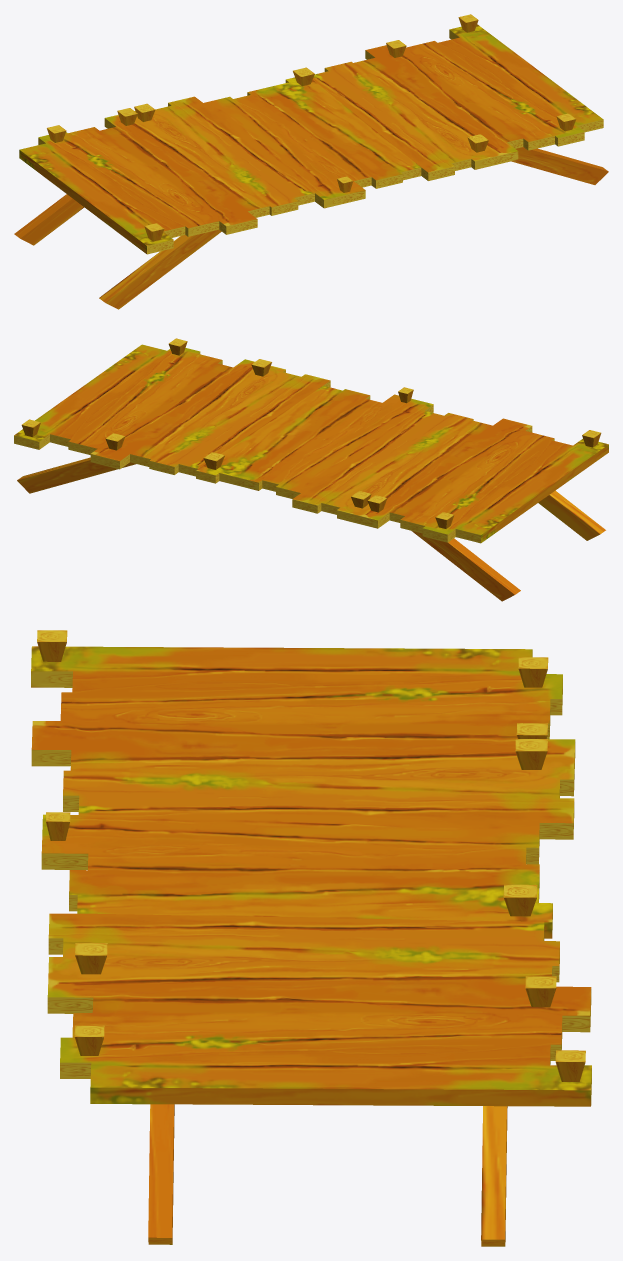
Rendered from map_plain_road07.FBX.
The picture shows the model from 3 angles, top to bottom: view 1: azimuth 30°, elevation 25°; view 2: azimuth 150°, elevation 25°; view 3: azimuth 270°, elevation 25°; orthographic projection. The views are drawn at different scales.
Visible parts, largest first — view 1: 07; view 2: 07; view 3: 07.
Boxes of the visible parts, x1=… form: 07: x1=14, y1=14, x2=608, y2=309; 07: x1=14, y1=338, x2=608, y2=601; 07: x1=31, y1=630, x2=591, y2=1246.
Bounding box in the file's own units: 6.33 × 1.06 × 3.12.
